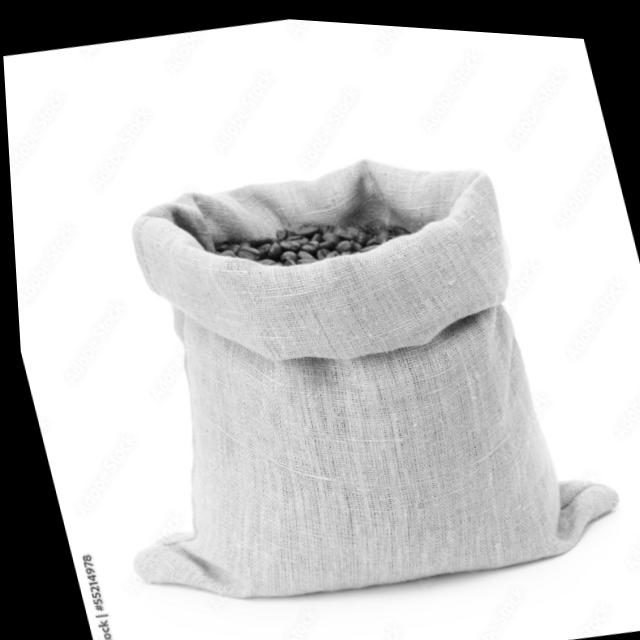sack: (36, 105, 630, 638)
